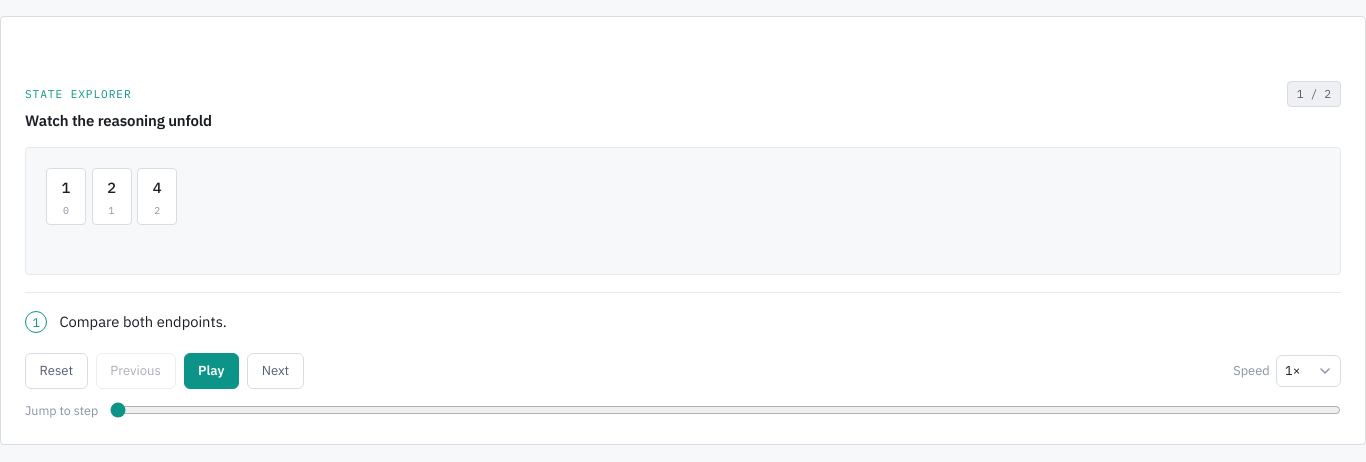
Test: visualization navigation › allows stepping backward and resetting with matching explanation
Expected: the button "Previous" is disabled, [96,354,176,389]
What coordinates should you click on to do the following:
click the button "Next"
I would click on:
 (276, 371)
Its box is [247,354,304,389].
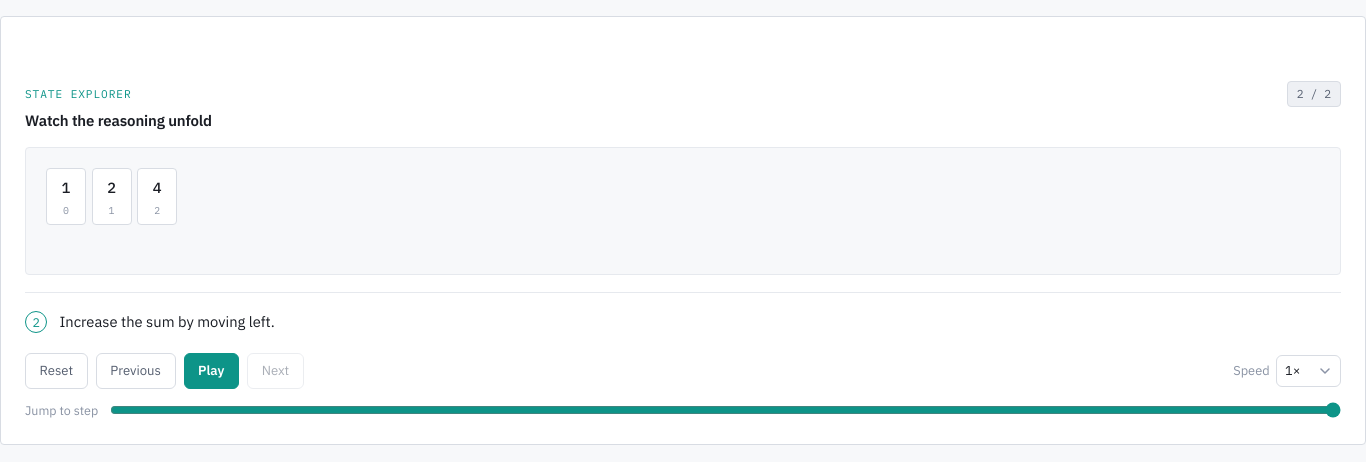
Now the text "Increase the sum by moving left." is shown, box [59,311,275,333]
Now the button "Next" is disabled, box [247,354,304,389]
What coordinates should you click on to do the following:
click the button "Reset"
I would click on:
 (56, 371)
Its box is [25,354,88,389].
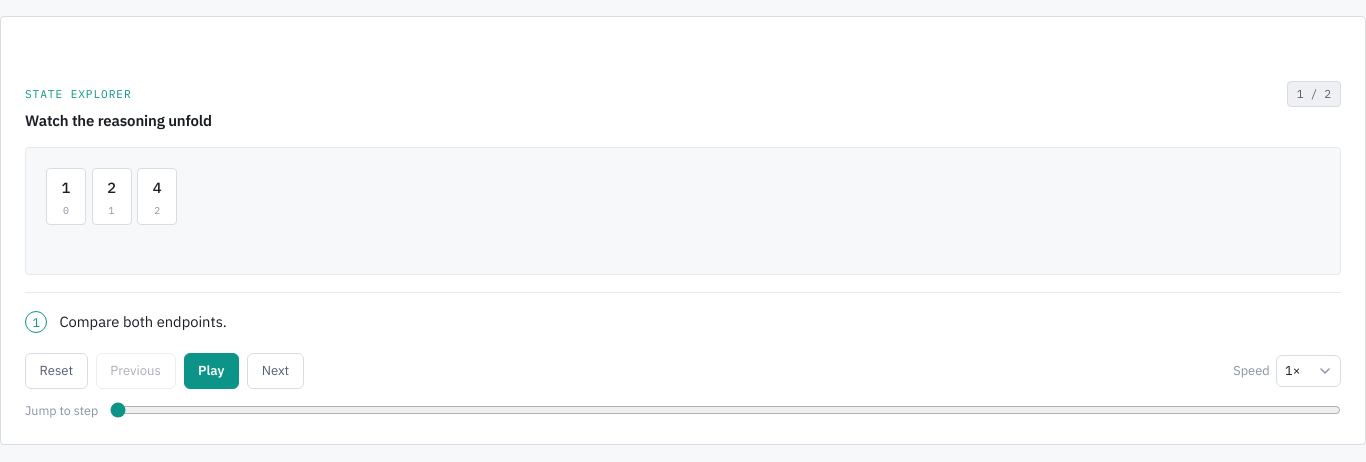
Now the text "Compare both endpoints." is shown, box [59,311,227,333]
